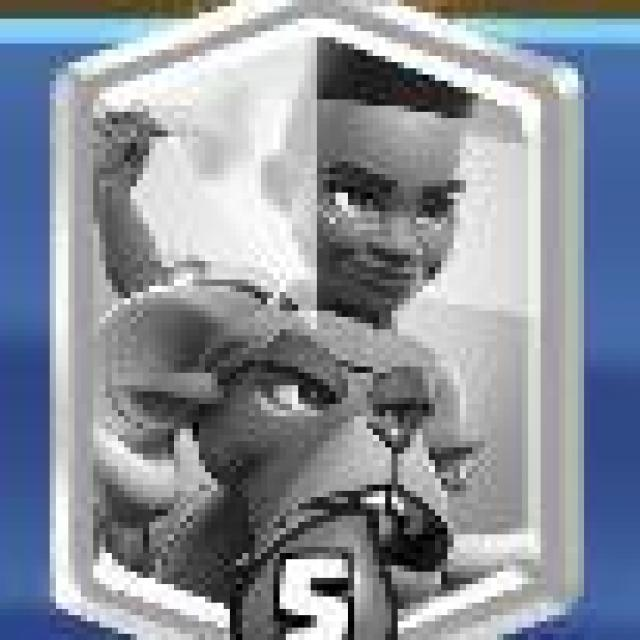Ram_Rider: (62, 6, 582, 640)
